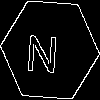N: (25, 25, 60, 74)
